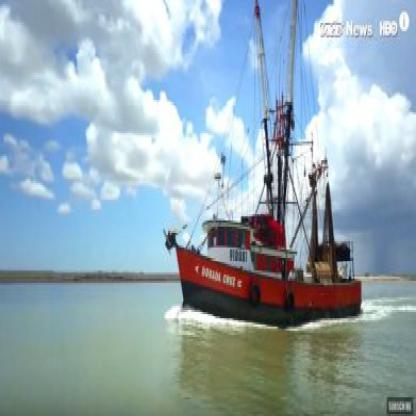Ship: (155, 1, 370, 353)
